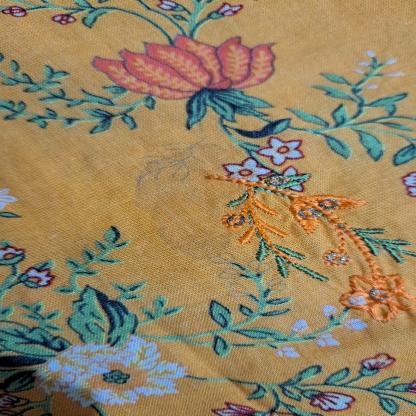spot: (137, 178, 240, 263)
